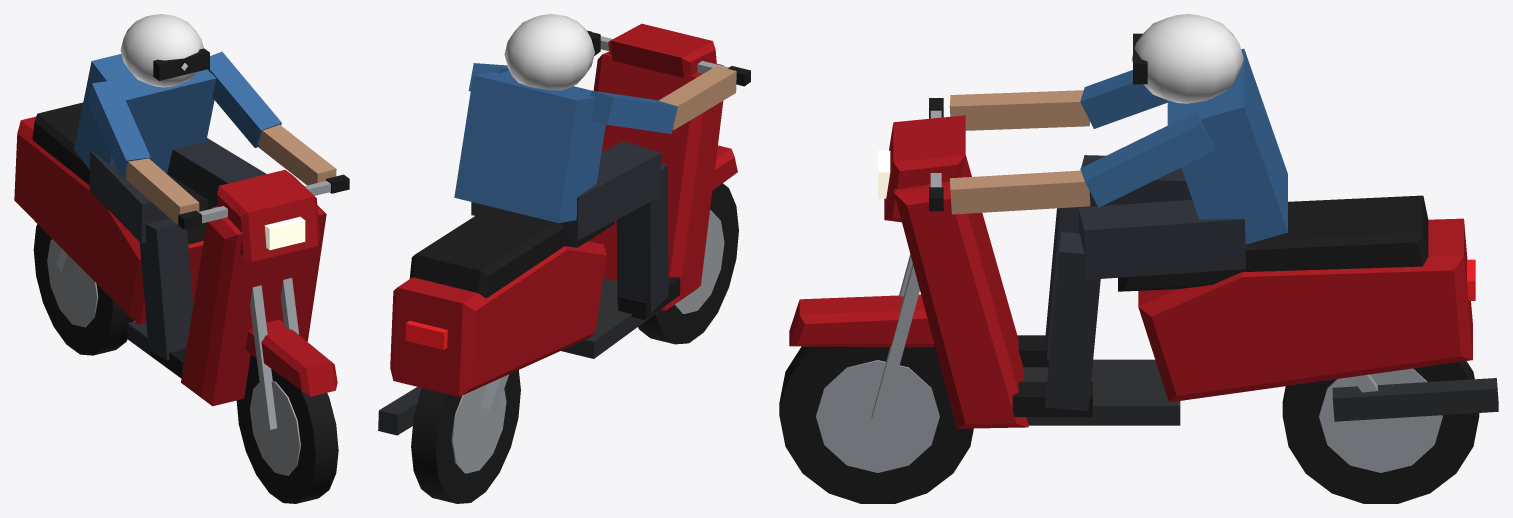
The model's file is motorcycle.fbx.
The picture shows the model from 3 angles, left to right: view 1: azimuth 30°, elevation 25°; view 2: azimuth 150°, elevation 25°; view 3: azimuth 270°, elevation 25°; orthographic projection. The views are drawn at different scales.
Visible parts, largest first — view 1: motorcycle_paint, motorcycle_shirt, motorcycle_trousers, motorcycle_tyre, motorcycle_rim, motorcycle_seat, motorcycle_skin, motorcycle_helmet, motorcycle_headlight, motorcycle_trim; view 2: motorcycle_paint, motorcycle_shirt, motorcycle_tyre, motorcycle_trousers, motorcycle_seat, motorcycle_rim, motorcycle_helmet, motorcycle_trim, motorcycle_skin, motorcycle_taillight; view 3: motorcycle_paint, motorcycle_tyre, motorcycle_trousers, motorcycle_shirt, motorcycle_rim, motorcycle_seat, motorcycle_trim, motorcycle_skin, motorcycle_helmet.
Part boxes in pixels (x1=…): motorcycle_paint: x1=14, y1=116, x2=337, y2=406; motorcycle_shirt: x1=74, y1=51, x2=281, y2=178; motorcycle_trousers: x1=89, y1=138, x2=266, y2=360; motorcycle_tyre: x1=33, y1=224, x2=338, y2=503; motorcycle_rim: x1=47, y1=181, x2=330, y2=475; motorcycle_seat: x1=32, y1=48, x2=349, y2=377; motorcycle_skin: x1=126, y1=124, x2=336, y2=226; motorcycle_helmet: x1=120, y1=14, x2=203, y2=87; motorcycle_headlight: x1=264, y1=216, x2=305, y2=250; motorcycle_trim: x1=127, y1=321, x2=181, y2=378; motorcycle_paint: x1=390, y1=23, x2=737, y2=396; motorcycle_shirt: x1=454, y1=63, x2=677, y2=222; motorcycle_tyre: x1=411, y1=183, x2=738, y2=503; motorcycle_trousers: x1=471, y1=141, x2=668, y2=312; motorcycle_seat: x1=409, y1=30, x2=750, y2=320; motorcycle_rim: x1=451, y1=36, x2=728, y2=473; motorcycle_helmet: x1=504, y1=14, x2=594, y2=90; motorcycle_trim: x1=378, y1=278, x2=660, y2=435; motorcycle_skin: x1=658, y1=66, x2=736, y2=130; motorcycle_taillight: x1=405, y1=320, x2=447, y2=349; motorcycle_paint: x1=789, y1=115, x2=1472, y2=428; motorcycle_tyre: x1=779, y1=346, x2=1479, y2=503; motorcycle_trousers: x1=1045, y1=155, x2=1245, y2=411; motorcycle_shirt: x1=1080, y1=48, x2=1287, y2=244; motorcycle_rim: x1=816, y1=110, x2=1442, y2=472; motorcycle_seat: x1=929, y1=33, x2=1428, y2=416; motorcycle_trim: x1=1023, y1=359, x2=1498, y2=425; motorcycle_skin: x1=949, y1=90, x2=1090, y2=214; motorcycle_helmet: x1=1131, y1=14, x2=1243, y2=103.
Size of the model in its own units: 0.65 by 1.45 by 1.97.
